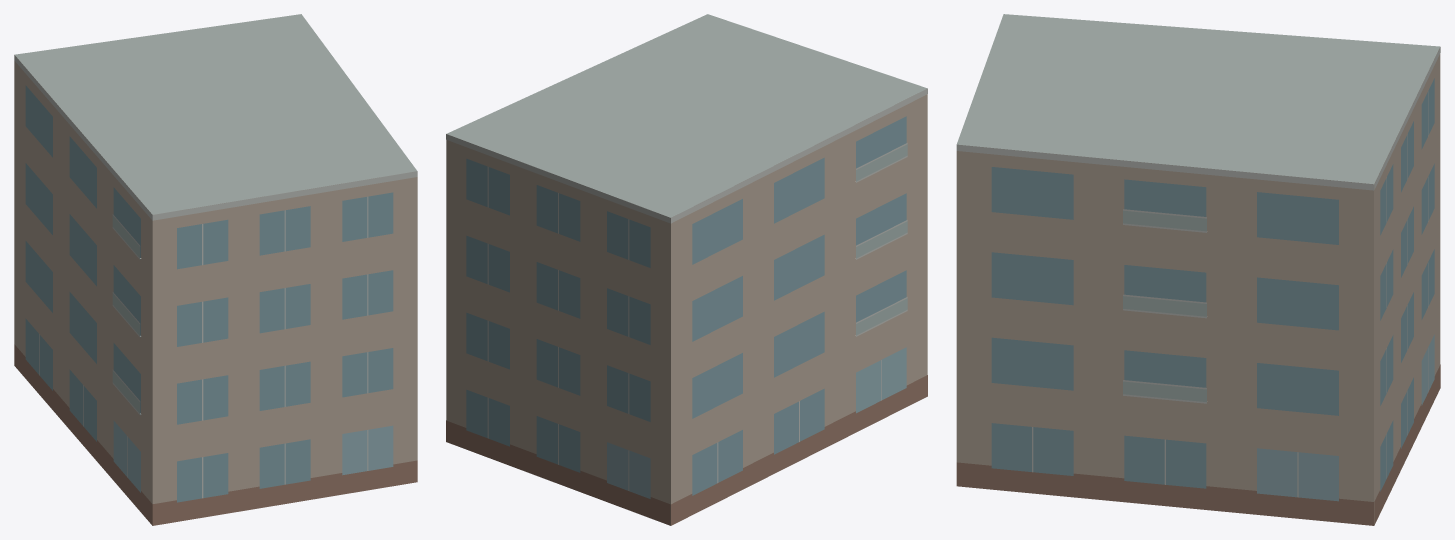
Rendered from survey-upis-32762740.glb.
The picture shows the model from 3 angles, left to right: view 1: azimuth 30°, elevation 25°; view 2: azimuth 150°, elevation 25°; view 3: azimuth 270°, elevation 25°; orthographic projection. The views are drawn at different scales.
Visible parts, largest first — view 1: survey-upis-32762740.tmp; view 2: survey-upis-32762740.tmp; view 3: survey-upis-32762740.tmp.
Boxes of the visible parts, x1,y1,x2,y2 form: survey-upis-32762740.tmp: (14,14,417,525); survey-upis-32762740.tmp: (446,14,927,525); survey-upis-32762740.tmp: (956,14,1440,525).
Size of the model in its own units: 14.01 by 13.1 by 16.82.
